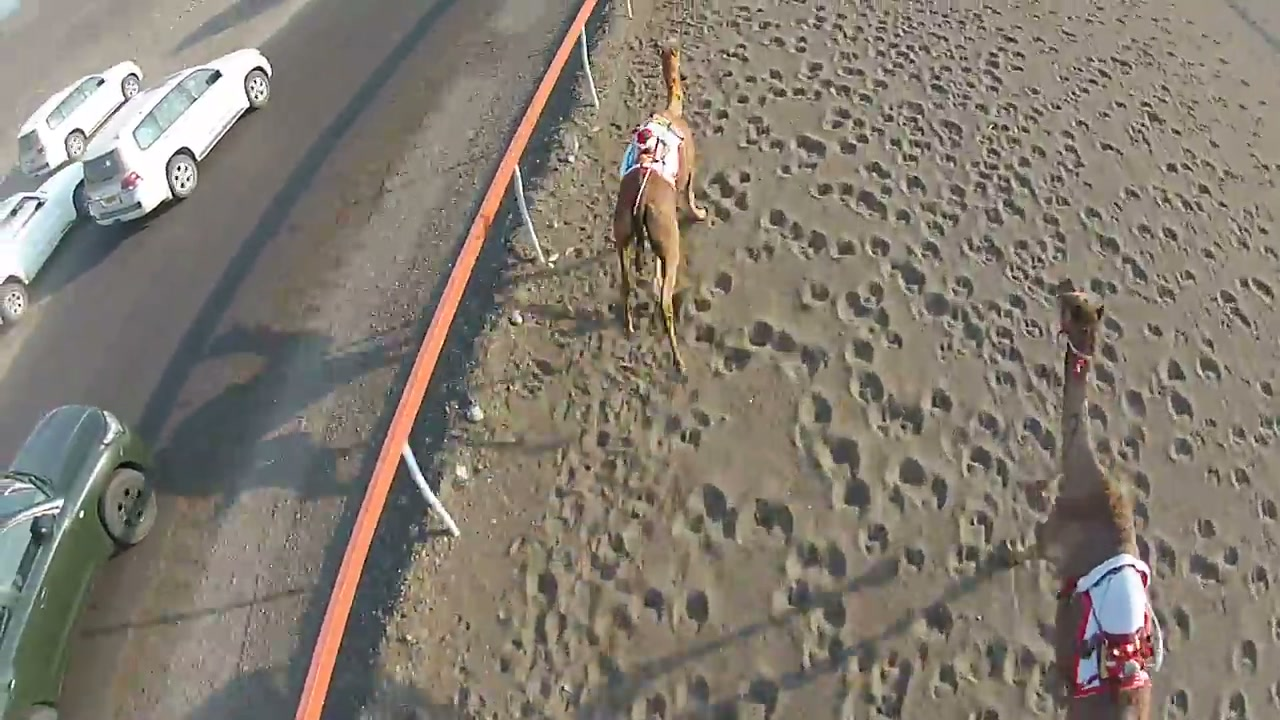animal_footprint: (384, 0, 1279, 719)
